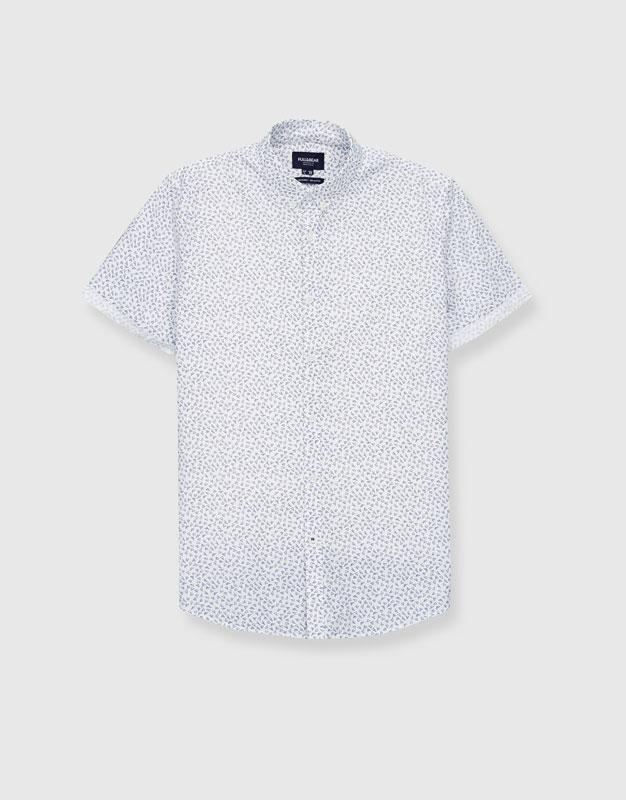teeshirt: (95, 116, 536, 664)
